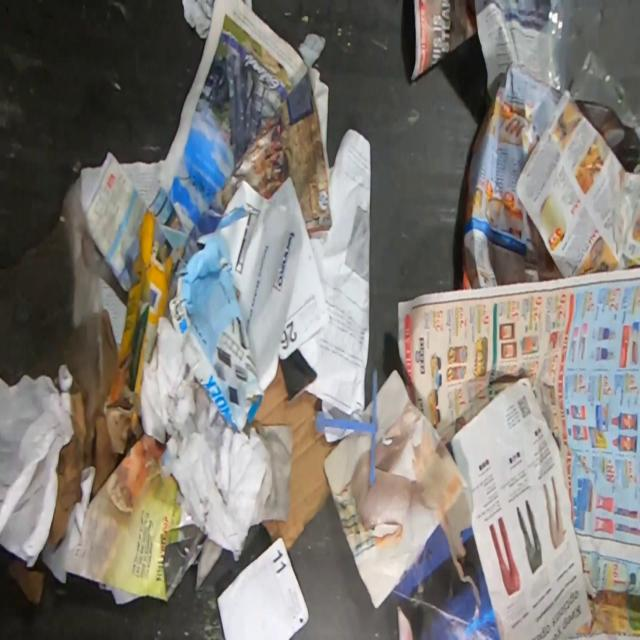cardboard: (47, 306, 138, 550), (170, 233, 264, 430), (250, 361, 338, 551), (114, 206, 174, 440), (8, 556, 45, 604)
soft_plastic: (0, 173, 110, 400), (540, 0, 640, 141)
